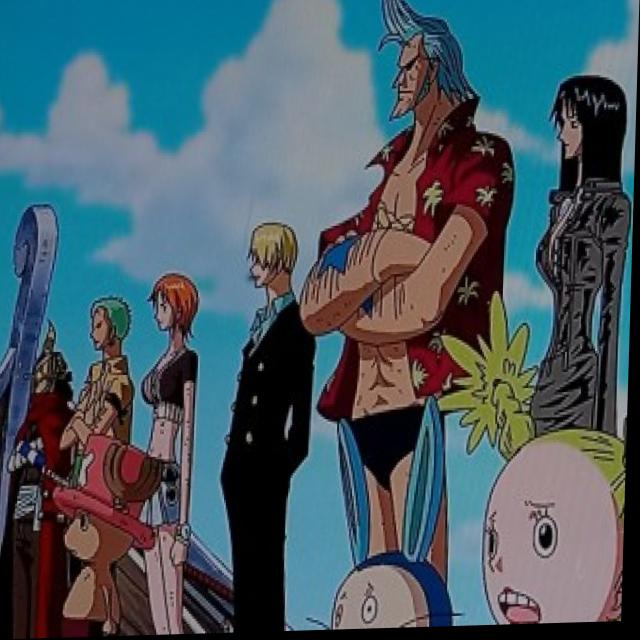Chyopa: (51, 429, 168, 638)
Franky: (366, 0, 475, 144)
Nami: (144, 265, 212, 361)
NicoRobin: (541, 70, 637, 206)
Sangdi: (243, 215, 306, 301)
Usopp: (25, 311, 83, 414)
Zoro: (86, 280, 140, 362)
